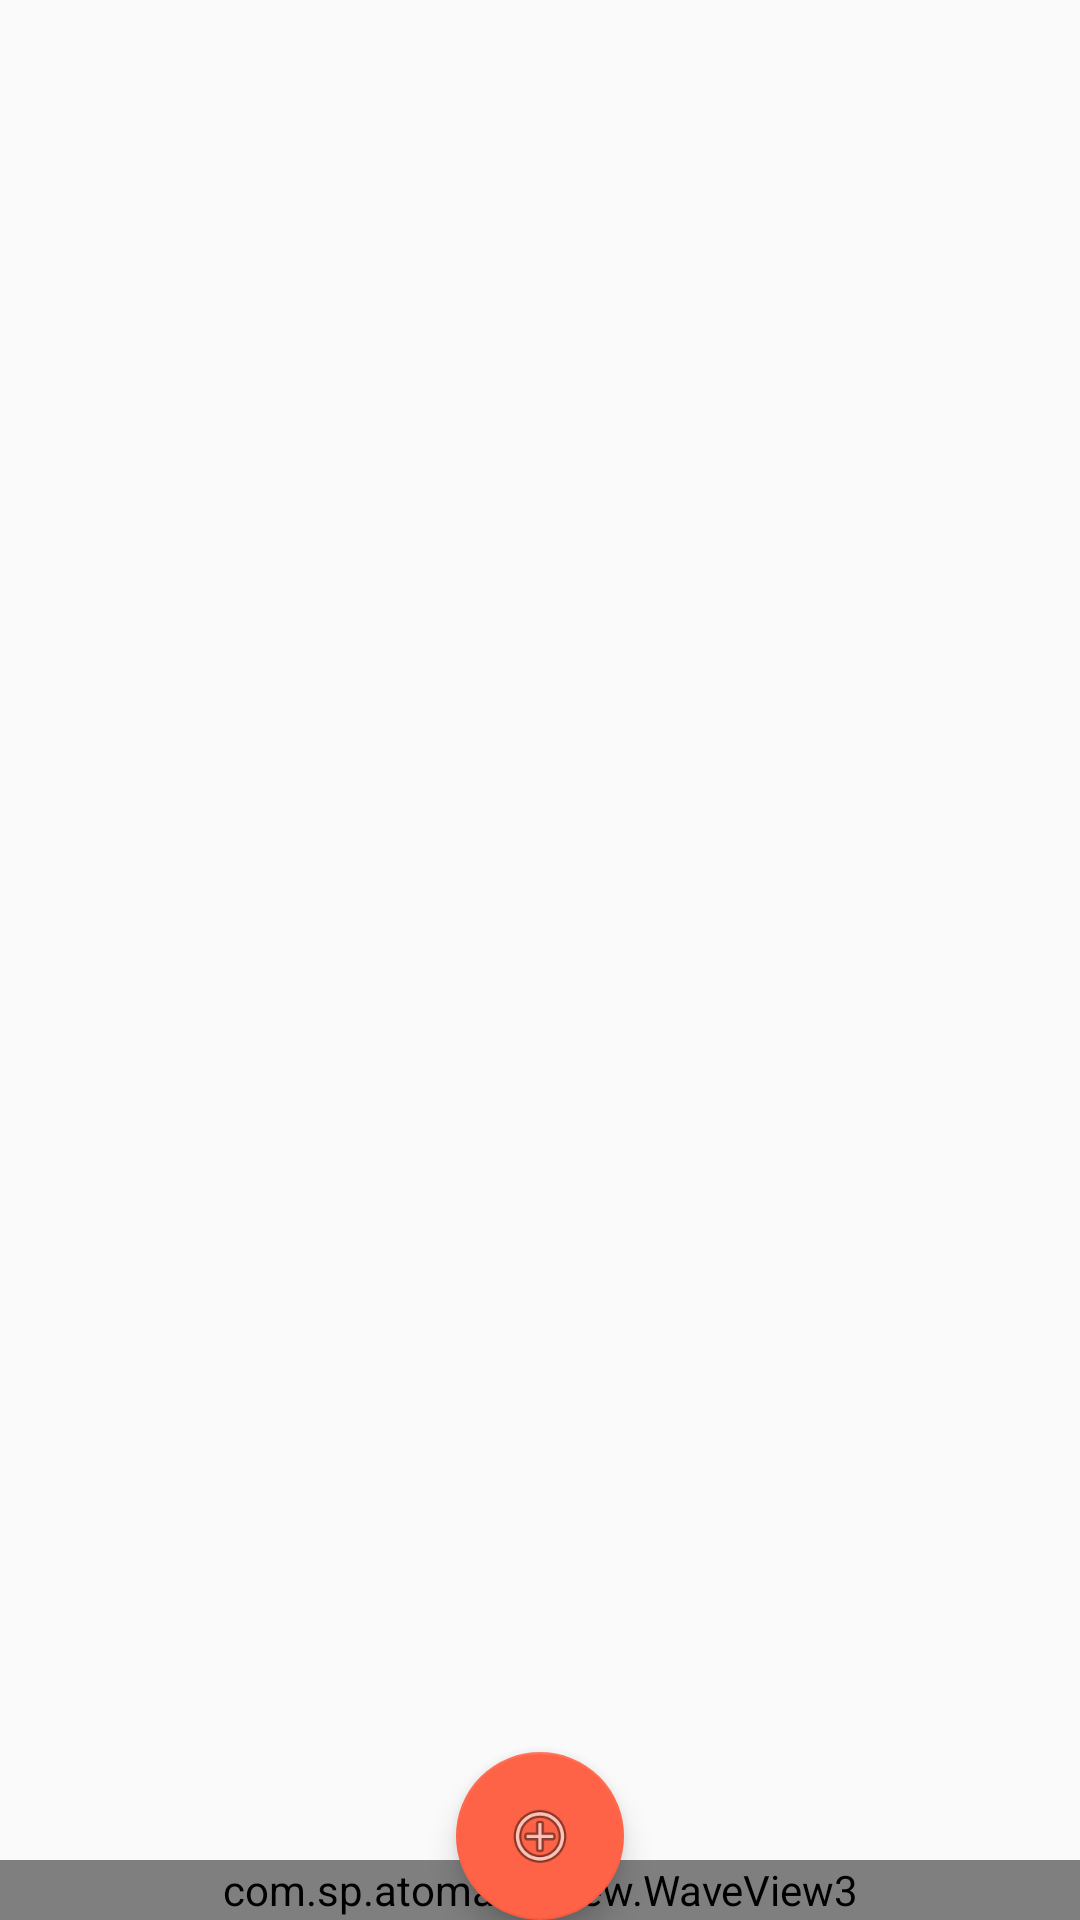

Named icons in this screenshot (1080x1920) and their bounding boxes, (x1, y1, x2, y2):
add: (456, 1752, 624, 1920)
